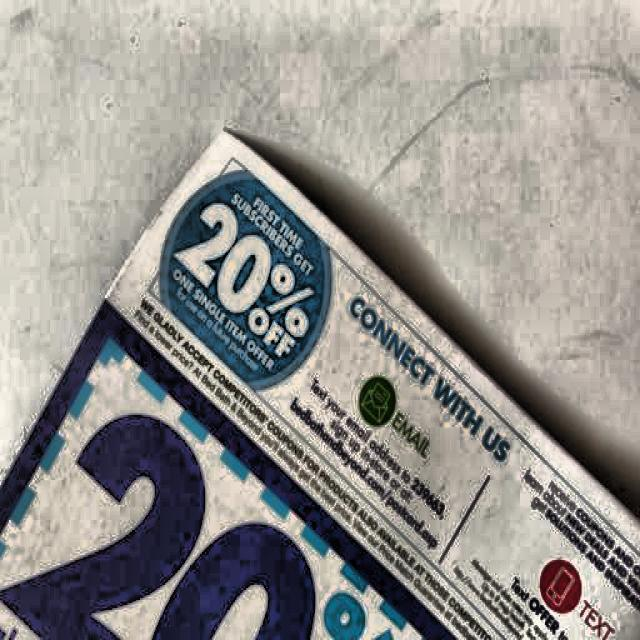paper: (4, 116, 640, 640)
